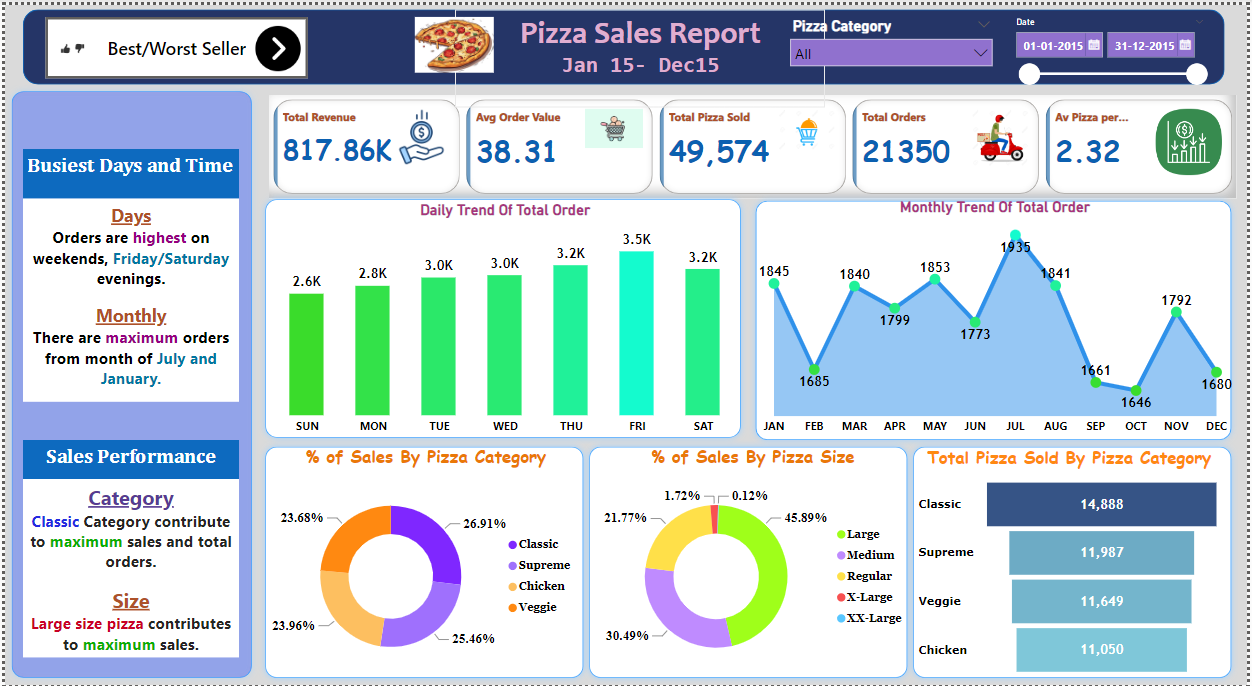

What the dashboard file says about the page in this screenshot:
{"tool":"powerbi","page":{"name":"Home","canvas":[1500,820],"ordinal":0},"visuals":[{"type":"shape","box":[21.7,5.4,1449.9,90.5],"z":0},{"type":"cardVisual","fields":{"Data":["Pizza Sales.Total Revenue","Pizza Sales.Avg Order Value","Pizza Sales.Total Pizza Sold","Pizza Sales.Total Orders","Pizza Sales.Av Pizza per Orders"]},"box":[318.6,108.6,1167.5,124.9],"z":1000},{"type":"textbox","box":[542.5,5,447.5,117.5],"z":2000},{"type":"shape","box":[305.9,226.3,590.1,304.1],"z":3000},{"type":"columnChart","title":"Daily Trend Of  Total Order","fields":{"Category":["Pizza Sales.Day"],"Y":["Pizza Sales.Total Orders"]},"box":[305.9,237.1,595.5,289.6],"z":4000},{"type":"shape","box":[897.8,228.1,590.1,305],"z":5000},{"type":"areaChart","title":"Monthly Trend Of  Total Order","fields":{"Category":["Pizza Sales.Order Month"],"Y":["Pizza Sales.Total Orders"]},"box":[903.3,233.5,582.9,293.2],"z":6000},{"type":"shape","box":[696.9,524.9,400,295.1],"z":7000},{"type":"shape","box":[1087.9,524.9,400,295.1],"z":8000},{"type":"shape","box":[305.9,524.9,400,295.1],"z":9000},{"type":"donutChart","title":"% of Sales By Pizza Category","fields":{"Category":["Pizza Sales.pizza_category"],"Y":["Pizza Sales.Total Revenue"]},"box":[318.6,530.4,378.3,289.6],"z":10000},{"type":"shape","box":[0,95.9,305.9,724.1],"z":11000},{"type":"donutChart","title":"% of Sales By Pizza Size","fields":{"Category":["Pizza Sales.pizza_size"],"Y":["Pizza Sales.Total Revenue"]},"box":[707.8,530.4,389.2,289.6],"z":12000},{"type":"funnel","title":"Total Pizza Sold By Pizza Category","fields":{"Category":["Pizza Sales.pizza_category"],"Y":["Pizza Sales.Total Pizza Sold"]},"box":[1097,532.2,374.7,287.8],"z":13000},{"type":"textbox","box":[21.7,173.8,260.7,59.7],"z":14000},{"type":"textbox","box":[21.7,233.5,260.7,245],"z":15000},{"type":"textbox","box":[21.7,524.9,260.7,47.1],"z":16000},{"type":"textbox","box":[21.7,572,260.7,215.4],"z":17000},{"type":"slicer","fields":{"Values":["Pizza Sales.pizza_category"]},"box":[937.7,9.1,264.3,67],"z":18000},{"type":"slicer","fields":{"Values":["Pizza Sales.order_date"]},"box":[1207.4,9.1,251.6,99.6],"z":19000},{"type":"image","box":[477.9,9.1,128.5,77.8],"z":20000},{"type":"image","box":[235.3,14.5,12.7,72.4],"z":21000},{"type":"actionButton","box":[48.9,14.5,316.8,74.2],"z":22000},{"type":"image","box":[36.2,19.9,90.5,65.2],"z":23000},{"type":"image","box":[284.2,19.9,90.5,65.2],"z":24000}]}

Visuals, with their boxes in screenshot pixels (x1, y1, x2, y2), scaled from the page's 1500x820 canvas onto the 1252x686 screenshot:
shape: select_region(18, 5, 1228, 80)
cardVisual - Pizza Sales.Total Revenue x Pizza Sales.Avg Order Value: select_region(266, 91, 1240, 195)
textbox: select_region(453, 4, 826, 102)
shape: select_region(255, 189, 748, 444)
"Daily Trend Of  Total Order" columnChart: select_region(255, 198, 752, 441)
shape: select_region(749, 191, 1242, 446)
"Monthly Trend Of  Total Order" areaChart: select_region(754, 195, 1240, 441)
shape: select_region(582, 439, 916, 685)
shape: select_region(908, 439, 1242, 685)
shape: select_region(255, 439, 589, 685)
"% of Sales By Pizza Category" donutChart: select_region(266, 444, 582, 685)
shape: select_region(0, 80, 255, 685)
"% of Sales By Pizza Size" donutChart: select_region(591, 444, 916, 685)
"Total Pizza Sold By Pizza Category" funnel: select_region(916, 445, 1228, 685)
textbox: select_region(18, 145, 236, 195)
textbox: select_region(18, 195, 236, 400)
textbox: select_region(18, 439, 236, 479)
textbox: select_region(18, 479, 236, 659)
slicer - Pizza Sales.pizza_category: select_region(783, 8, 1003, 64)
slicer - Pizza Sales.order_date: select_region(1008, 8, 1218, 91)
image: select_region(399, 8, 506, 73)
image: select_region(196, 12, 207, 73)
actionButton: select_region(41, 12, 305, 74)
image: select_region(30, 17, 106, 71)
image: select_region(237, 17, 313, 71)
